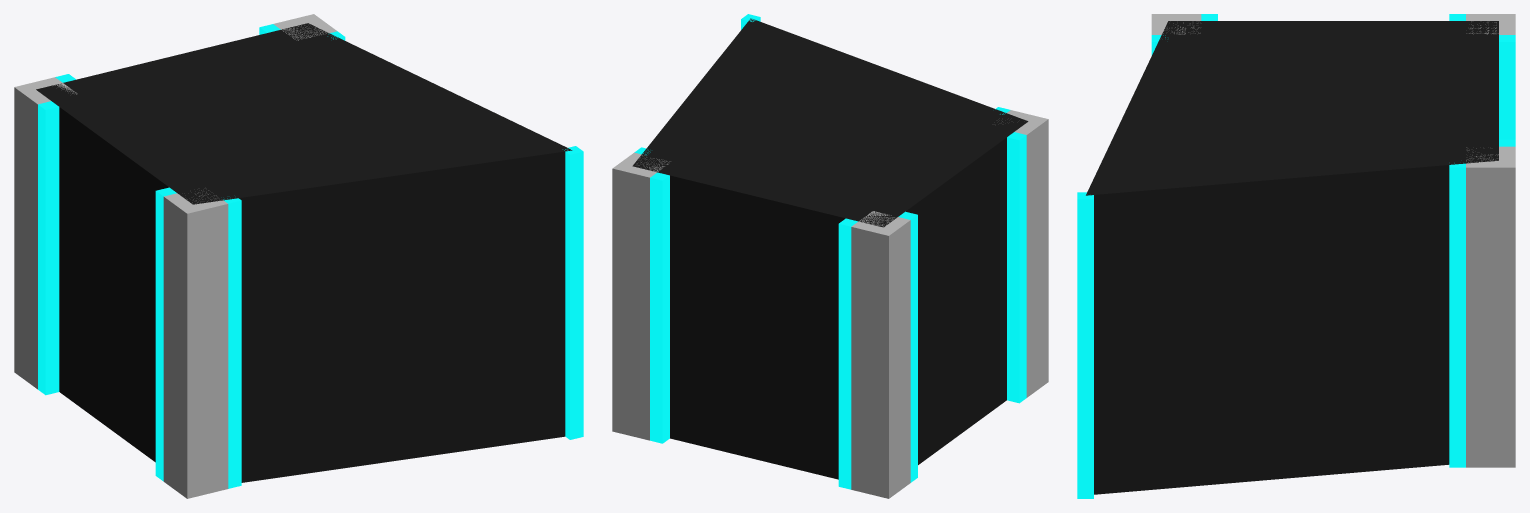
The model's file is top.glb.
The picture shows the model from 3 angles, left to right: view 1: azimuth 30°, elevation 25°; view 2: azimuth 150°, elevation 25°; view 3: azimuth 270°, elevation 25°; orthographic projection. The views are drawn at different scales.
Parts seen in each view (by area): view 1: Cube; view 2: Cube; view 3: Cube.
Boxes of the visible parts, x1,y1,x2,y2 form: Cube: (14, 14, 583, 498); Cube: (612, 14, 1048, 498); Cube: (1077, 14, 1515, 498).
Size of the model in its own units: 2.65 by 2 by 2.65.
